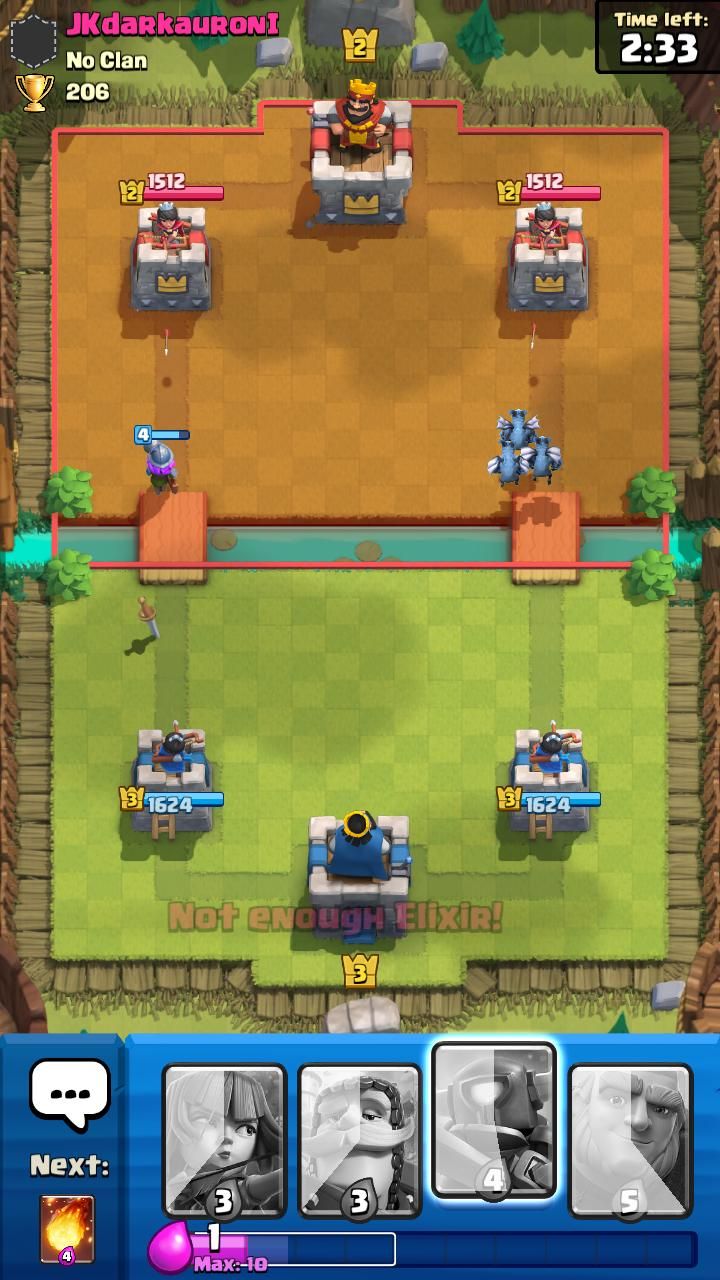ally: (134, 425, 190, 496), (520, 436, 563, 485), (488, 439, 530, 487), (496, 409, 541, 451)
